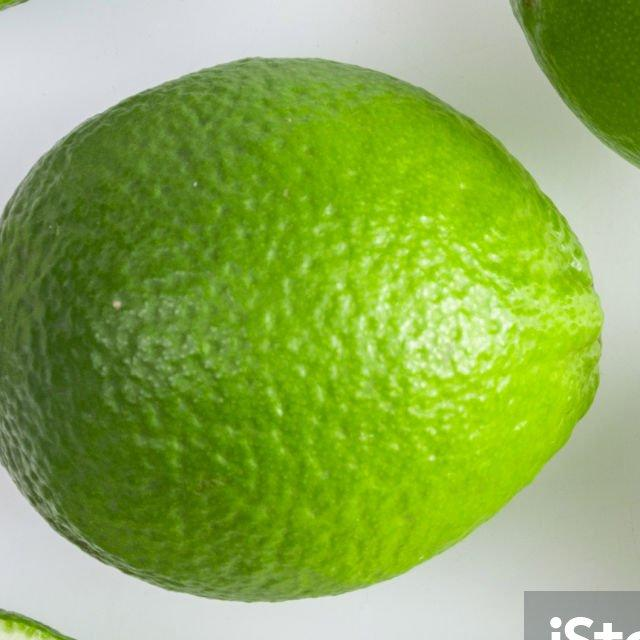lime: (0, 59, 606, 611)
